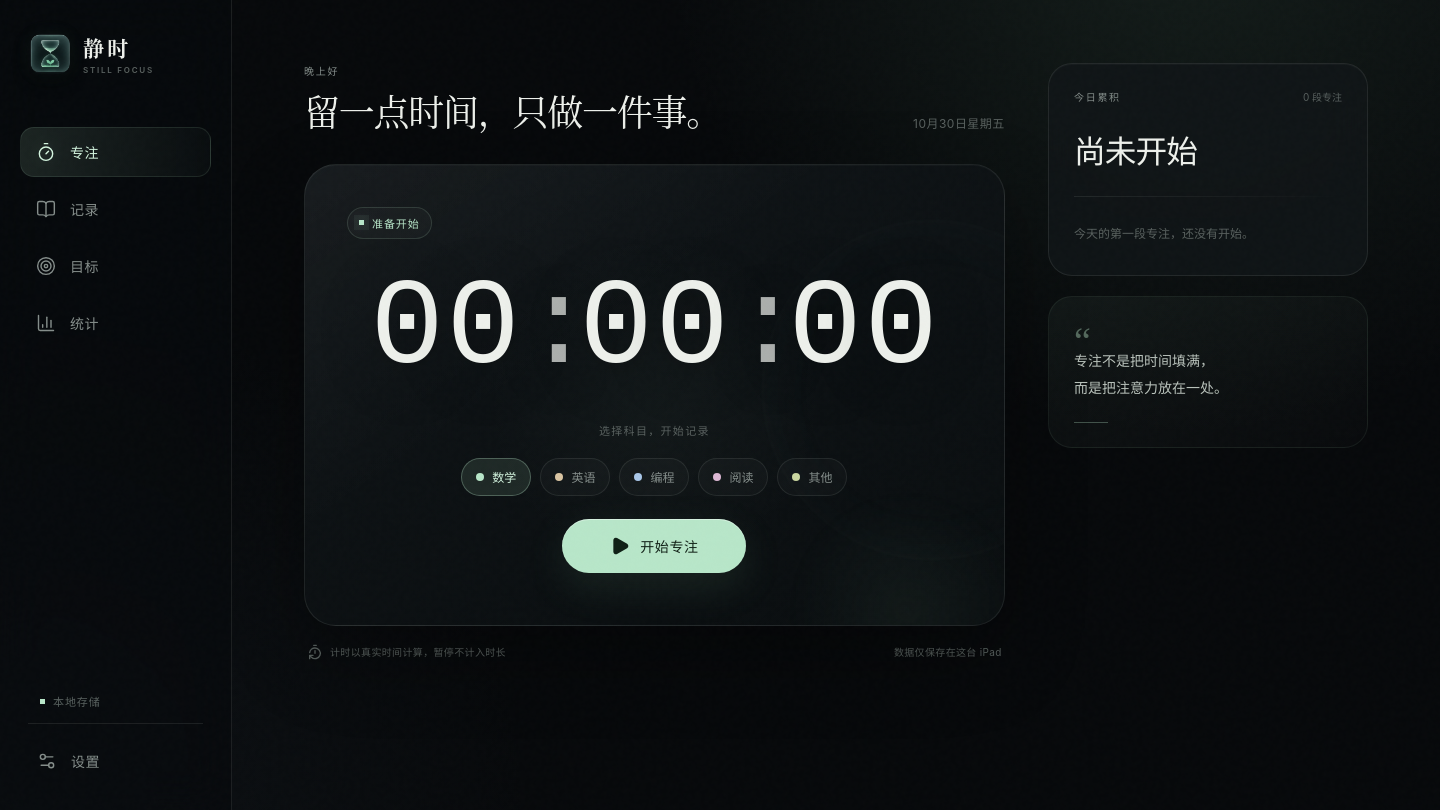
Test case: app flow › adds a manual study record and shows it in records
Expected: the button "开始专注" is shown, [562,519,746,573]
Click the button "记录": (116, 209) [20,184,211,234]
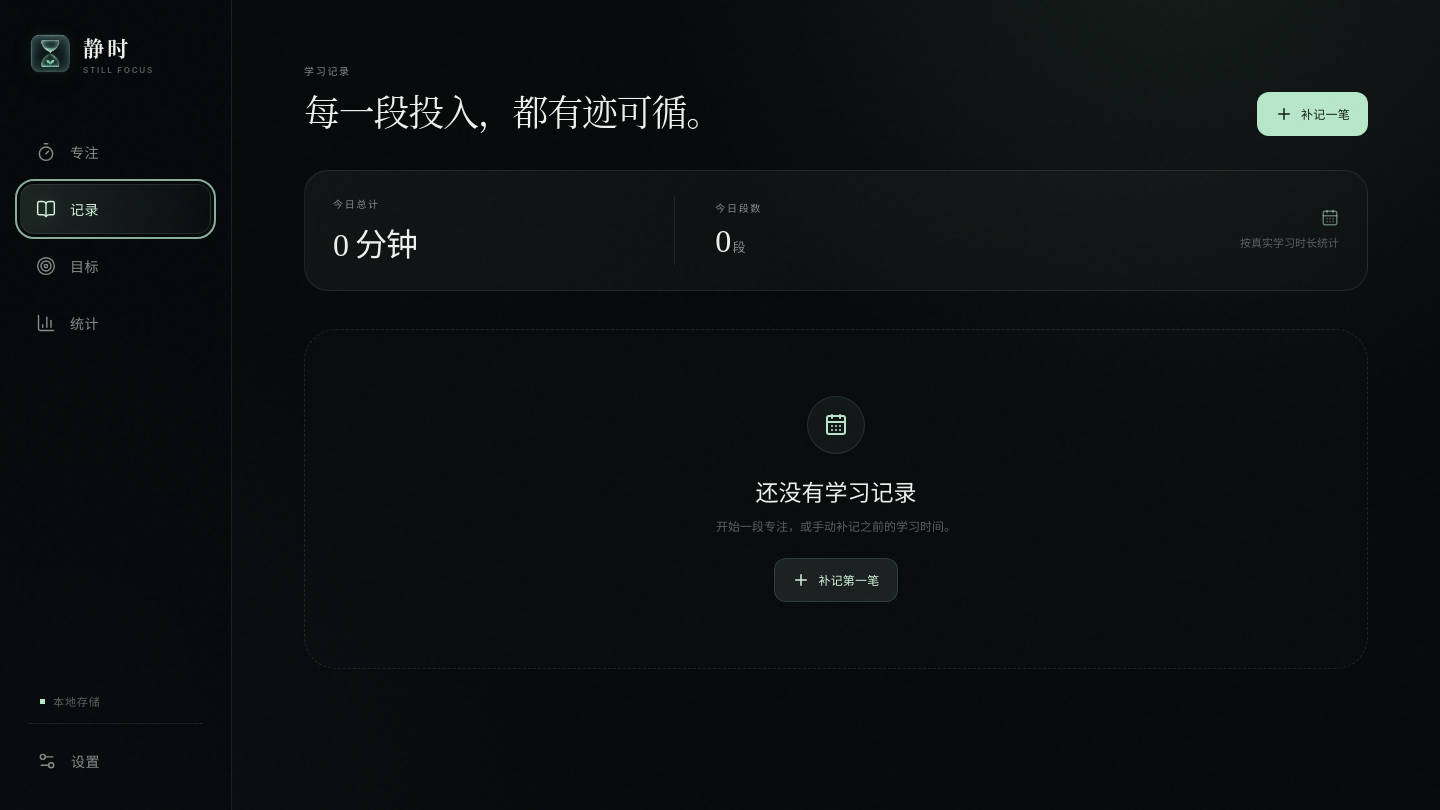
Click the button "补记一笔": (1312, 114) [1257,92,1368,136]
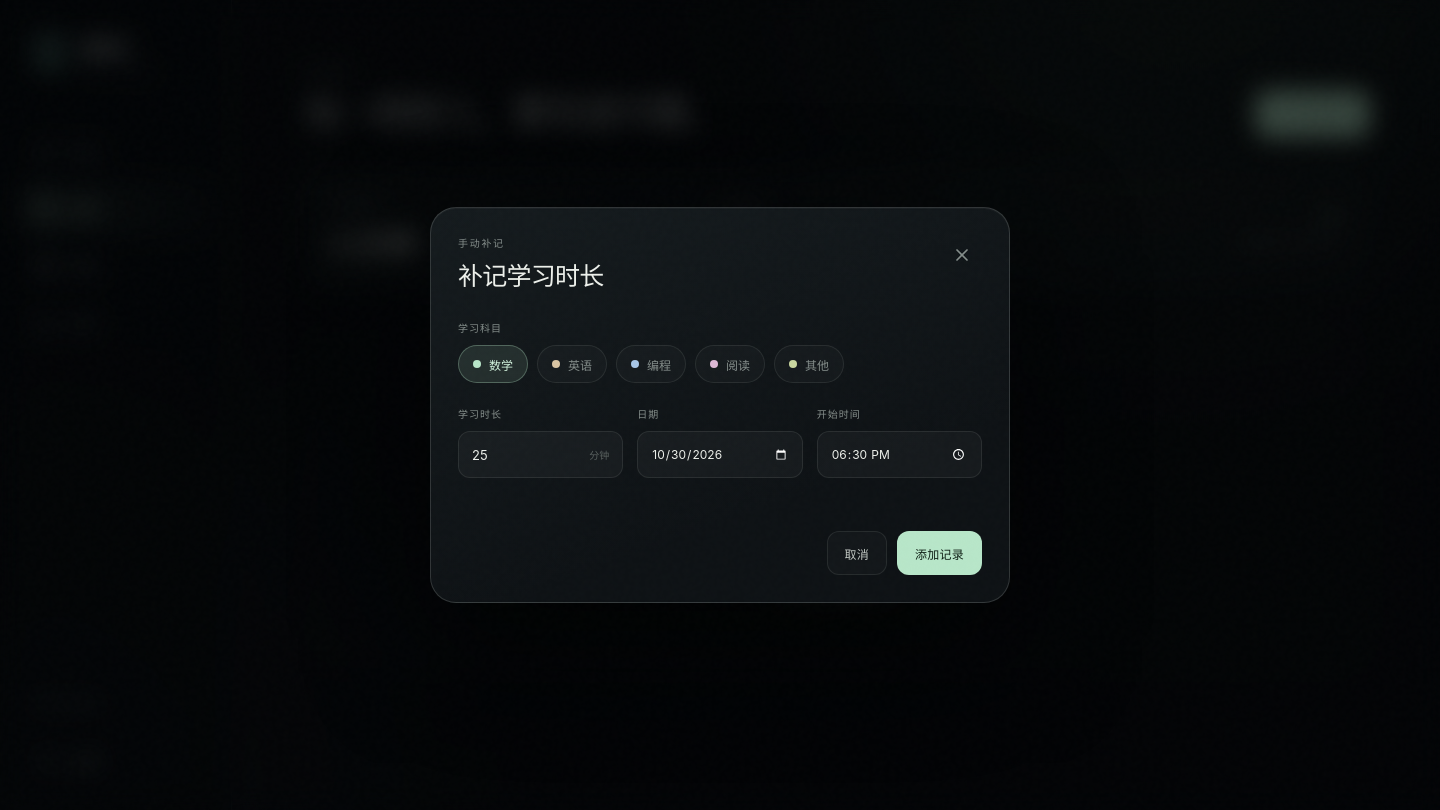
Expected: the dialog is shown, [430,207,1010,603]
Click the radio button labelled "编程": (651, 364) [616,345,686,383]
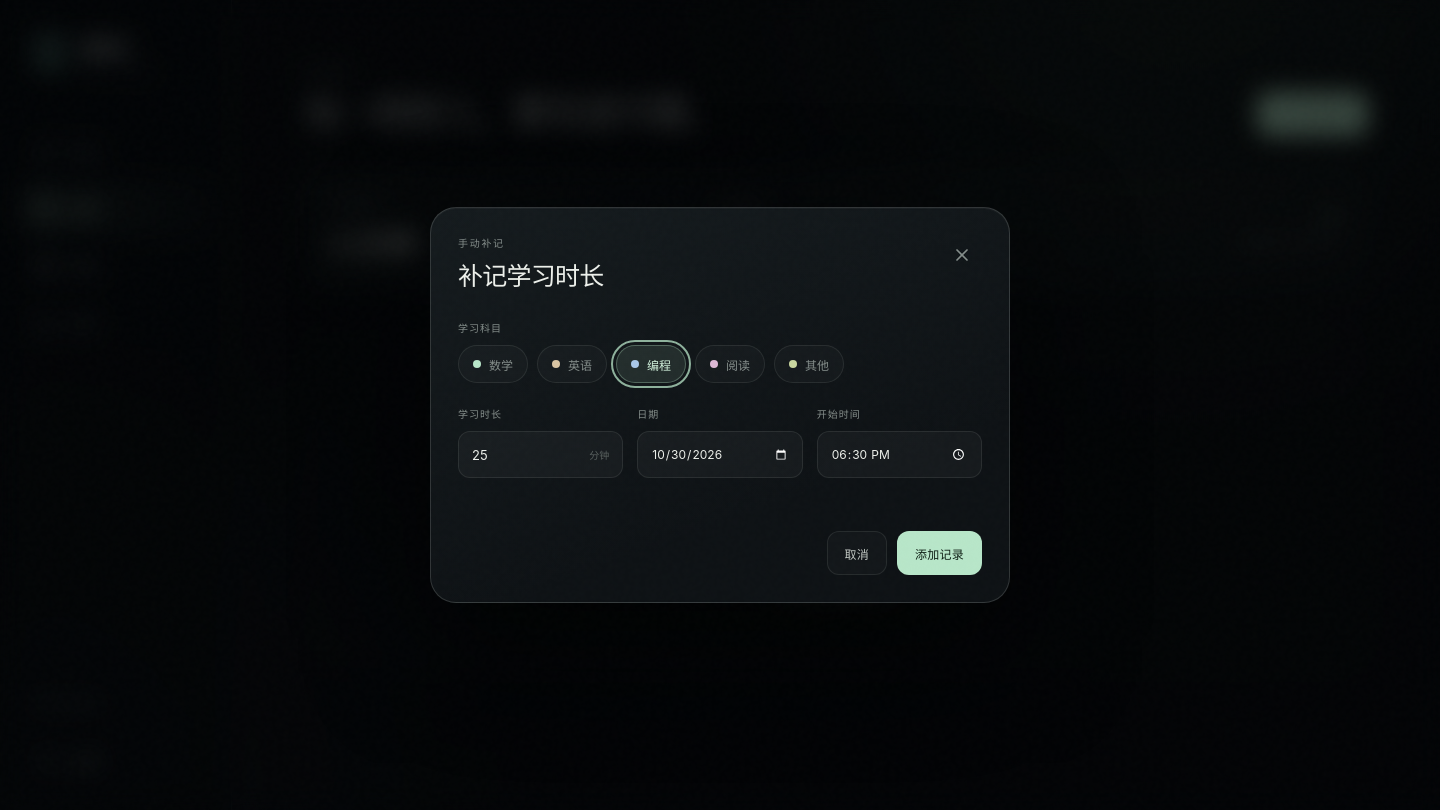
Replace the text in the number field labelled "学习时长" with "45": (520, 454) [459,432,581,477]
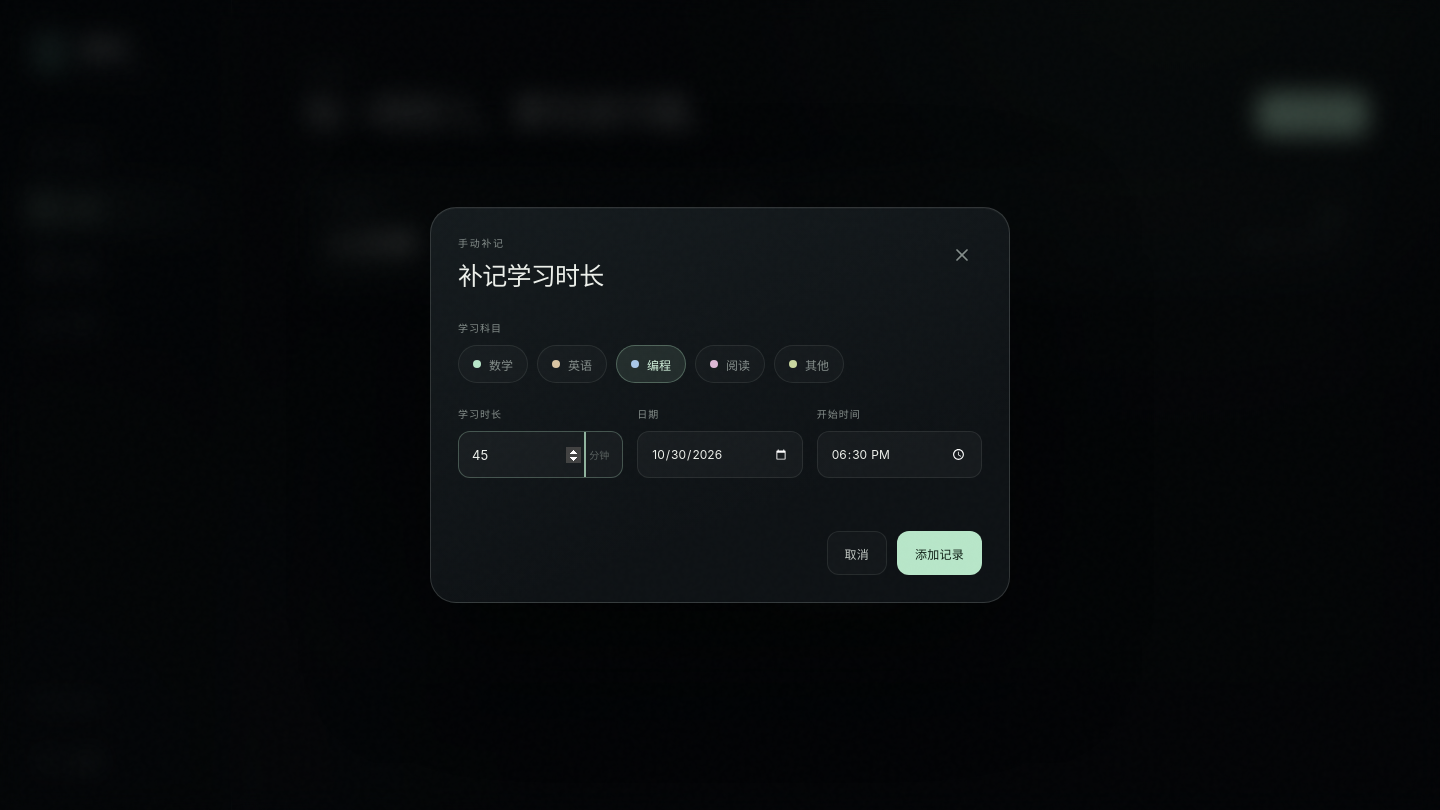
Click the button "添加记录": (940, 553) [897,531,982,575]
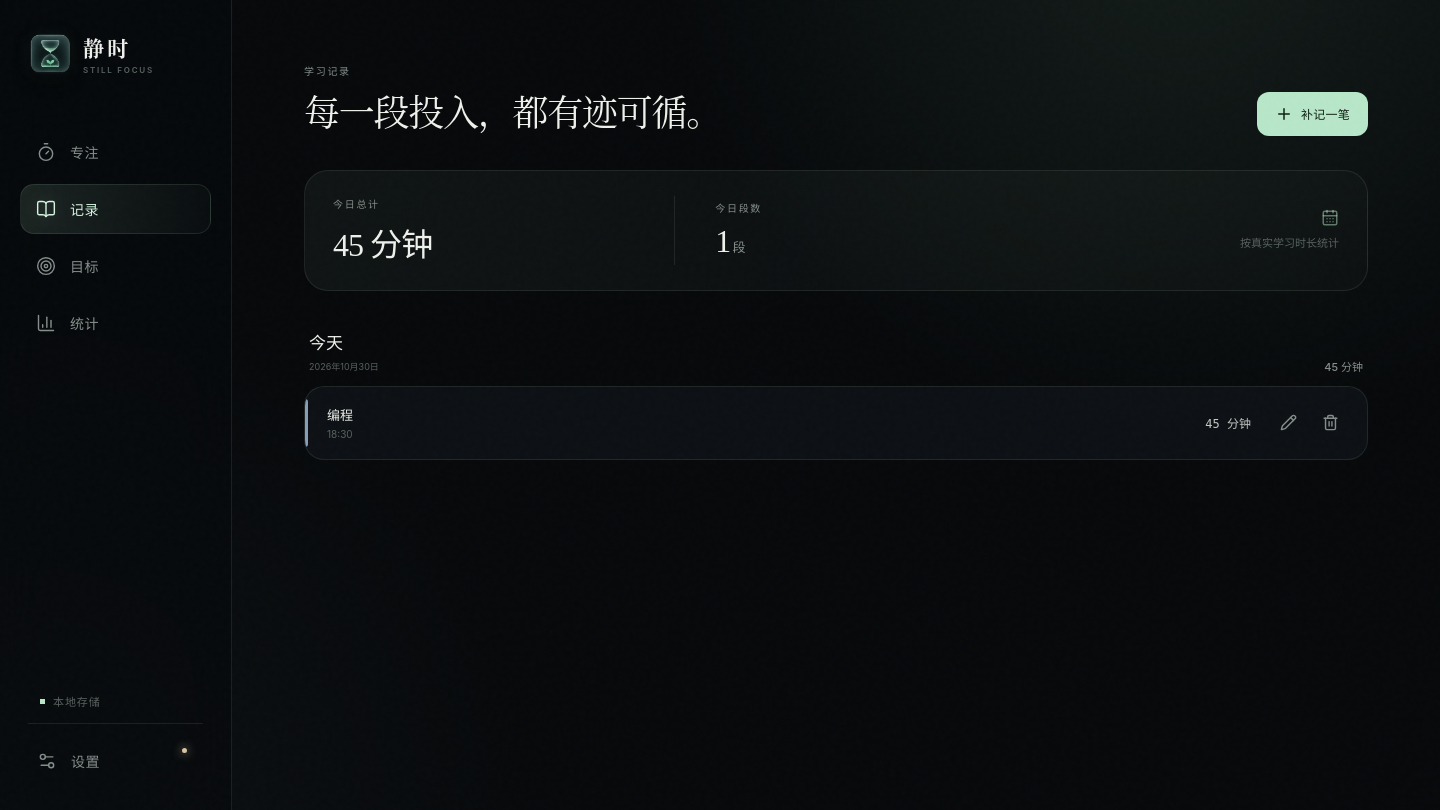
Expected: the text "编程" is shown, [327,408,353,424]
Expected: the dialog is gone
